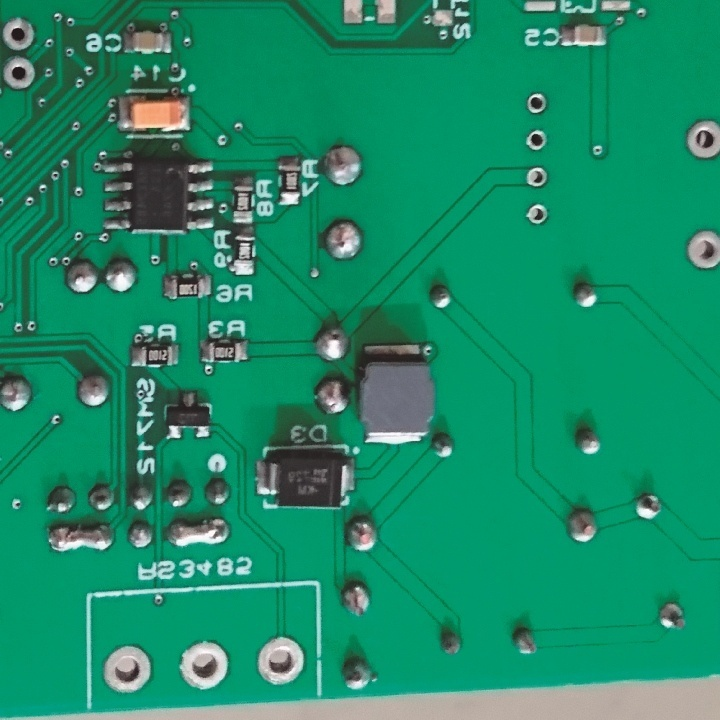F: (175, 636, 233, 691), (253, 631, 307, 689), (101, 642, 155, 694), (1, 12, 44, 55), (684, 224, 720, 275), (1, 52, 44, 94), (681, 116, 720, 160), (522, 200, 552, 228), (524, 163, 552, 190), (524, 90, 550, 118), (527, 127, 549, 153)
P: (44, 520, 113, 557), (167, 516, 233, 552)
